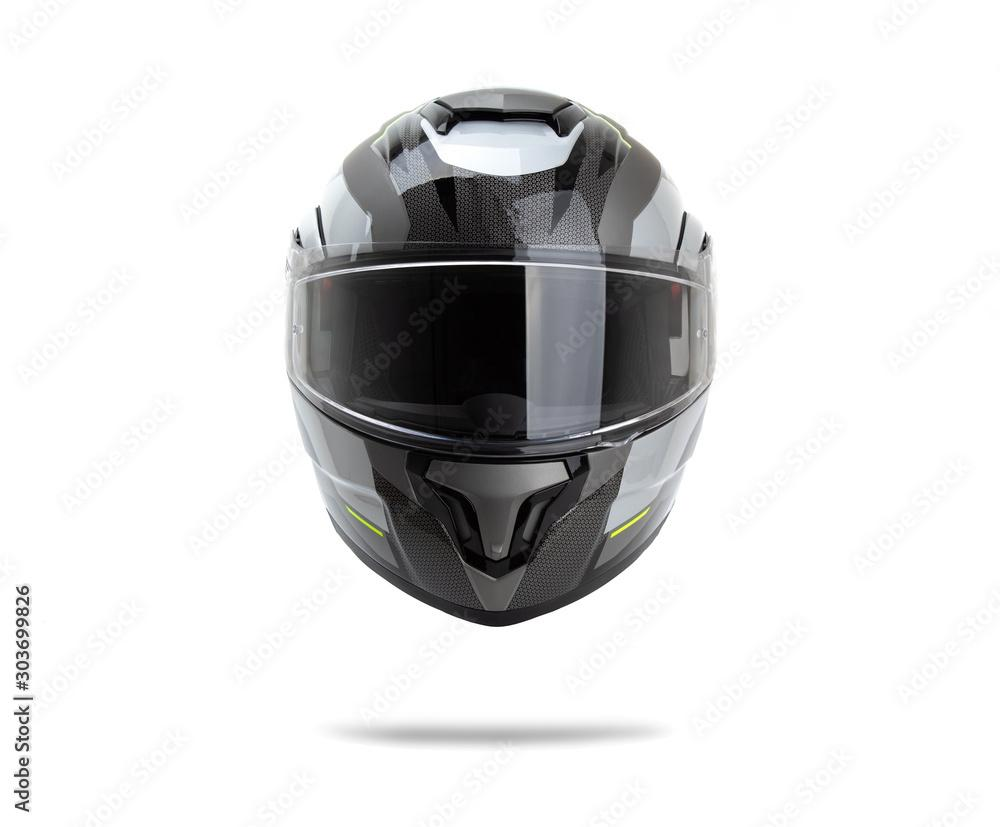helmet: (281, 84, 718, 630)
